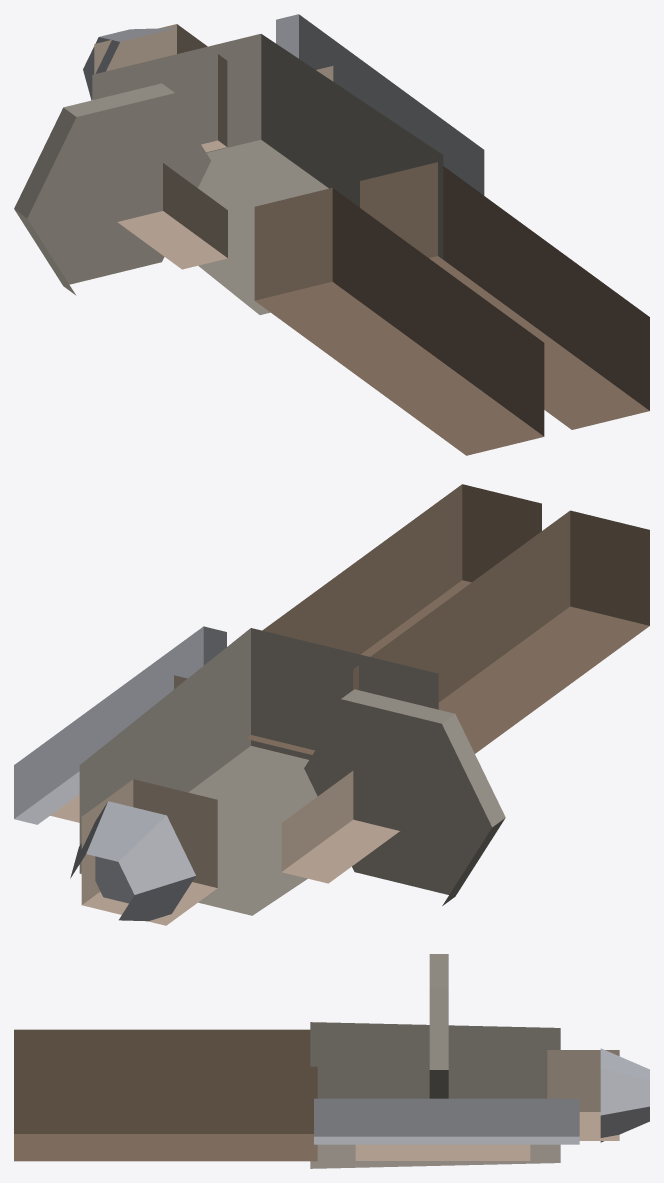
The model's file is militia.glb.
The picture shows the model from 3 angles, top to bottom: view 1: azimuth 30°, elevation 25°; view 2: azimuth 150°, elevation 25°; view 3: azimuth 270°, elevation 25°; orthographic projection. The views are drawn at different scales.
Parts seen in each view (by area): view 1: militia; view 2: militia; view 3: militia.
Part boxes in pixels (box(x1,y1,x2,y2)): militia: box(14, 14, 649, 455); militia: box(14, 484, 649, 925); militia: box(14, 954, 649, 1168).
Bounding box in the file's own units: 0.825 × 0.3724 × 1.67.
